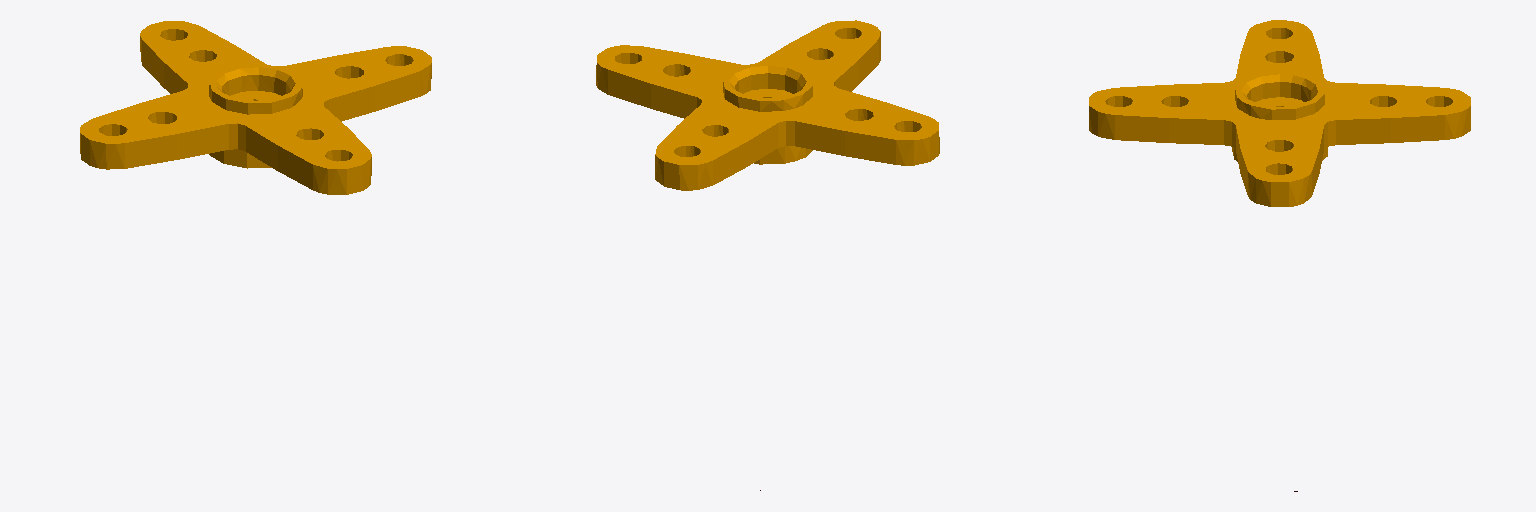
URDF robot description (copter_arm):
<?xml version="1.0"?>
<robot name="copter_arm" xmlns:xacro="http://www.ros.org/wiki/xacro">

	<link name="anchor">
		<visual>
			<origin xyz="0 0 0" rpy="0 0 0"/>
			<geometry>
				<mesh filename='package://copter_arm_robot/urdf/mesh/webcam_attach.stl'/>
				<!--box size="0.01 0.01 0.01"/-->
				</geometry>
		</visual>

		<collision>
			<origin xyz="0 0 0" rpy="0 0 0"/>
			<geometry>
				<box size="0.01 0.01 0.01"/>
			</geometry>
		</collision>

		<inertial>
			<origin xyz="0 0 0" rpy="0 0 0"/>
			<mass value="1000"/>
			<inertia ixx="100" ixy="0.0" ixz="0.0" iyy="100" iyz="0.0" izz="100"/>
		</inertial>
	</link>
	<gazebo reference="anchor">
		<static>true</static>
	</gazebo>

	<joint name="free_joint" type="continuous">
		<origin xyz="0 0 1.0" rpy="1.5708 0 0"/>
		<parent link="anchor"/>
		<child link="arm"/>
		<axis xyz="1 0 0"/>
		<limit effort="300" velocity="300" />
		<dynamics damping="0.03" friction="0.05"/>
	</joint>

	<link name="arm">
		<visual>
			<origin xyz="0 0 0.105" rpy="0 0 0"/>
			<geometry>
				<box size="0.005 0.003 0.21"/>
			</geometry>
			<material name="blue">
				<color rgba="0.24 0.06 0.03 1"/>
			</material>
		</visual>

		<collision>
			<origin xyz="0 0 0.105" rpy="0 0 0"/>
			<geometry>
				<box size="0.005 0.003 0.21"/>
			</geometry>
		</collision>

		<inertial>
			<origin xyz="0 0 0.105" rpy="0 0 0"/>
			<mass value="0.001"/>
			<inertia ixx="0.0001" ixy="0.0" ixz="0.0" iyy="0.0001" iyz="0.0" izz="0.0001"/>
		</inertial>
	</link>

	<joint name="motor_joint" type="continuous">
		<origin xyz="0 0.0015 0.21" rpy="0 0 0"/>
		<parent link="arm"/>
		<child link="helix"/>
		<axis xyz="0 1 0"/>
		<limit effort="500" velocity="255"/>
		<dynamics damping="0.01" friction="0.1"/>
	</joint>

	<link name="helix">
		<visual>
			<origin xyz="0 0 0.0" rpy="0 0 0"/>
			<geometry>
				<box size="0.005 0.001 0.065"/>
			</geometry>
		</visual>

		<collision>
			<origin xyz="0 0 0" rpy="0 0 0"/>
			<geometry>
				<box size="0.005 0.001 0.065"/>
			</geometry>
		</collision>

		<inertial>
			<origin xyz="0 0 0" rpy="0 0 0"/>
			<mass value="0.1"/>
			<inertia ixx="0.005" ixy="0.0" ixz="0.0" iyy="0.005" iyz="0.0" izz="0.005"/>
		</inertial>
	</link>

	<!-- we need to add a transmission with this joint so the gazebo ros control plugin can see it in gazebo -->
	<transmission name="free_joint_trans">
		<type>transmission_interface/SimpleTransmission</type>
		<joint name="free_joint">
			<hardwareInterface>hardware_interface/EffortJointInterface</hardwareInterface>
		</joint>
		<actuator name="bearings">
			<mechanicalReduction>1</mechanicalReduction>
		</actuator>
	</transmission>

	<transmission name="motor_joint_trans">
		<type>transmission_interface/SimpleTransmission</type>
		<joint name="motor_joint">
			<hardwareInterface>hardware_interface/VelocityJointInterface</hardwareInterface>
		</joint>
		<actuator name="motor">
			<mechanicalReduction>1</mechanicalReduction>
		</actuator>
	</transmission>

	<gazebo>
		<!-- plugin to have a ros control interface -->
		<plugin name="copter_arm_sim_plugin" filename="libgazebo_ros_control.so">
			<robotNamespace>/copter_arm</robotNamespace>
		</plugin>

		<!-- plugin to simulate the lift force by the helix -->
		<!--
			link_name: Name of the link affected by the group of lift/drag properties.
			air_density: Density of the fluid this model is suspended in.
			area: Surface area of the link.
			a0: The initial "alpha" or initial angle of attack. a0 is also the y-intercept of the alpha-lift coefficient curve.
			cla: The ratio of the coefficient of lift and alpha slope before stall. Slope of the first portion of the alpha-lift coefficient curve.
			cda: The ratio of the coefficient of drag and alpha slope before stall.
			cp: Center of pressure. The forces due to lift and drag will be applied here.
			forward: 3-vector representing the forward direction of motion in the link frame.
			upward: 3-vector representing the direction of lift or drag.
			alpha_stall: Angle of attack at stall point; the peak angle of attack.
			cla_stall: The ratio of coefficient of lift and alpha slope after stall. Slope of the second portion of the alpha-lift coefficient curve.
			cda_stall: The ratio of coefficient of drag and alpha slope after stall.
		-->
		<plugin name="copter_arm_propeller_top" filename="libLiftDragPlugin.so">
			<a0>0.3</a0>
			<cla>4.752798721</cla>
			<cda>0.6417112299</cda>
			<alpha_stall>1.3</alpha_stall>
			<cla_stall>-3.85</cla_stall>
			<cda_stall>-0.9233984055</cda_stall>
			<cp>0 0 0.15</cp>
			<area>0.05</area>
			<air_density>1.2041</air_density>
			<forward>-1 0 0</forward>
			<upward>0 1 0</upward>
			<link_name>helix</link_name>
		</plugin>
		<plugin name="copter_arm_propeller_bottom" filename="libLiftDragPlugin.so">
			<a0>0.3</a0>
			<cla>4.752798721</cla>
			<cda>0.6417112299</cda>
			<alpha_stall>1.3</alpha_stall>
			<cla_stall>-3.85</cla_stall>
			<cda_stall>-0.9233984055</cda_stall>
			<cp>0.13 0 -0.075</cp>
			<area>0.05</area>
			<air_density>1.2041</air_density>
			<forward>1 0 0</forward>
			<upward>0 1 0</upward>
			<link_name>helix</link_name>
		</plugin>
		<!-- plugin name="copter_arm_propeller_240" filename="libLiftDragPlugin.so">
			<a0>0.3</a0>
			<cla>4.752798721</cla>
			<cda>0.6417112299</cda>
			<alpha_stall>1.3</alpha_stall>
			<cla_stall>-3.85</cla_stall>
			<cda_stall>-0.9233984055</cda_stall>
			<cp>-0.13 0 -0.075</cp>
			<area>0.05</area>
			<air_density>1.2041</air_density>
			<forward>0.5 0.0 0.866</forward>
			<upward>0 1 0</upward>
			<link_name>helix</link_name>
		</plugin -->


	</gazebo>

</robot>

--- Render facts (derived) ---
The picture shows the robot from 3 angles, left to right: view 1: azimuth 30°, elevation 25°; view 2: azimuth 150°, elevation 25°; view 3: azimuth 270°, elevation 25°; orthographic projection.
Model copter_arm with 3 links and 2 joints (2 continuous), rooted at anchor, posed every joint at zero.
Visible links, largest first — view 1: anchor; view 2: anchor; view 3: anchor.
Boxes of the visible links, bbox=[...] form: anchor: bbox=[80, 21, 431, 194]; anchor: bbox=[596, 20, 939, 190]; anchor: bbox=[1089, 20, 1470, 206].
Bounding box of the posed robot: 23.18 × 23.18 × 26.77 m (x, y, z).
1 mesh visuals loaded from 1 distinct referenced files (1 binary STL).